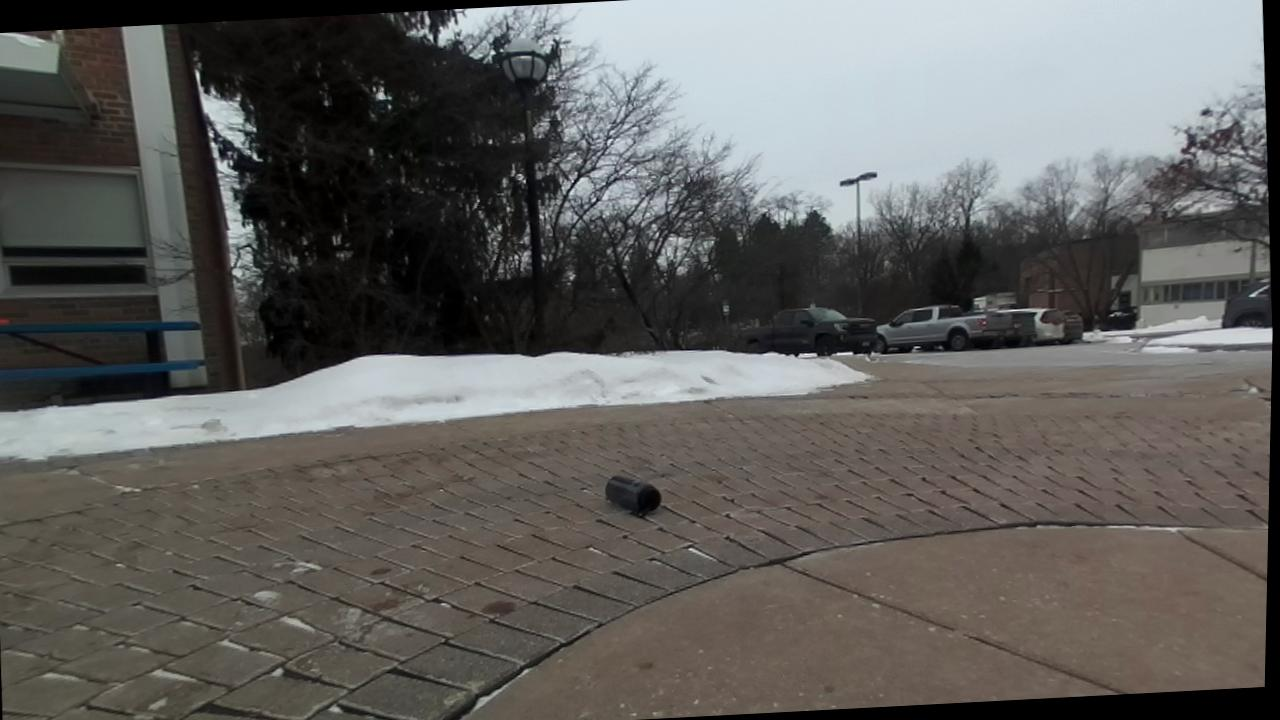bottle: (606, 476, 660, 517)
